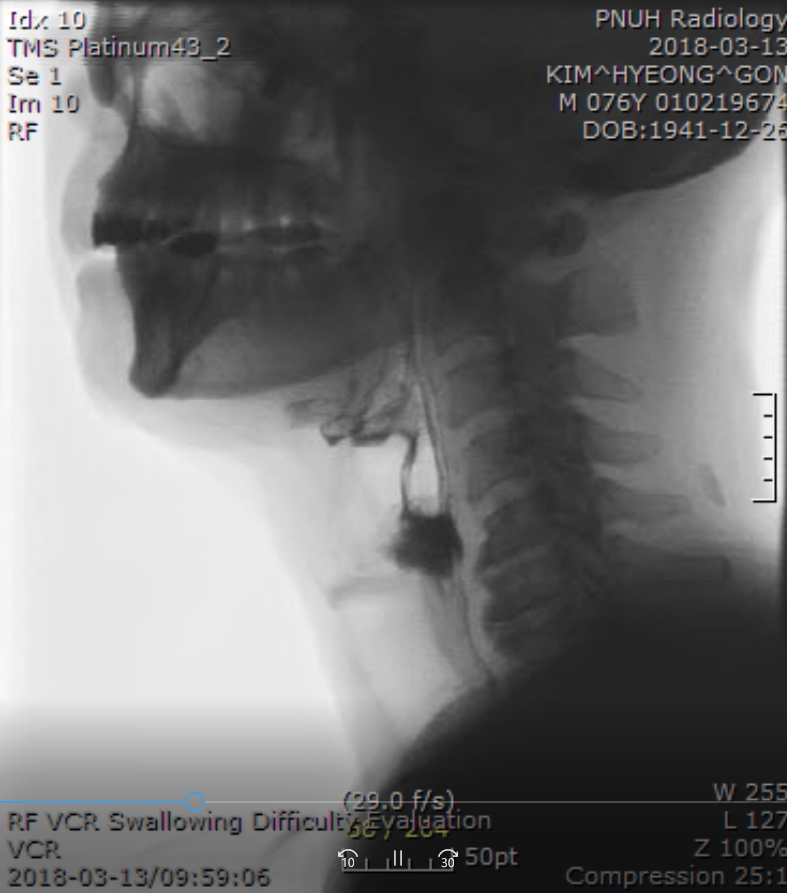dros: (387, 452, 460, 518)
food: (369, 499, 467, 582)
uros: (315, 390, 409, 453)
